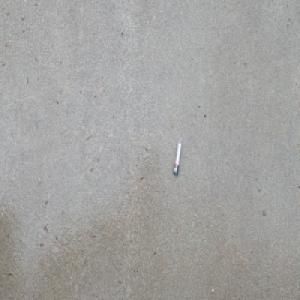Battery: (173, 142, 182, 177)
